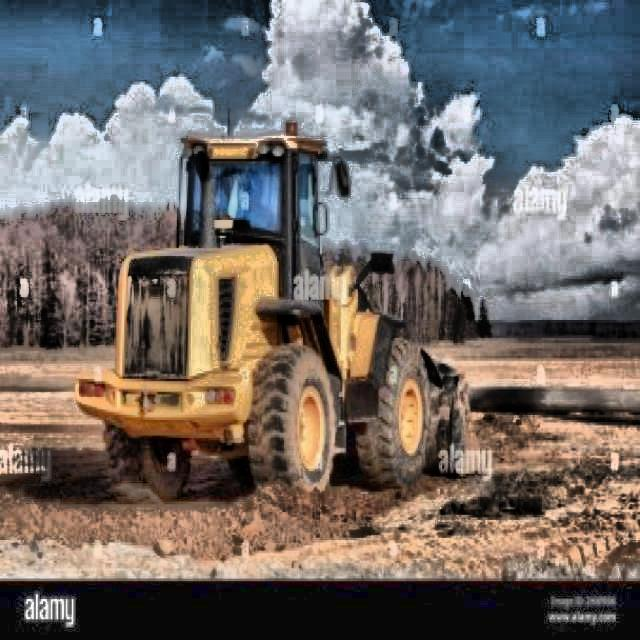bull_dozer/loader/grader: (70, 120, 468, 497)
person: (244, 174, 275, 223)
